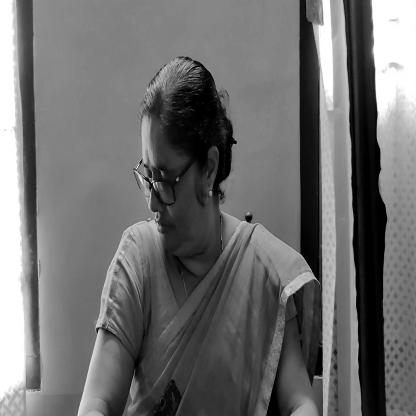Distracted: (140, 71, 237, 260)
